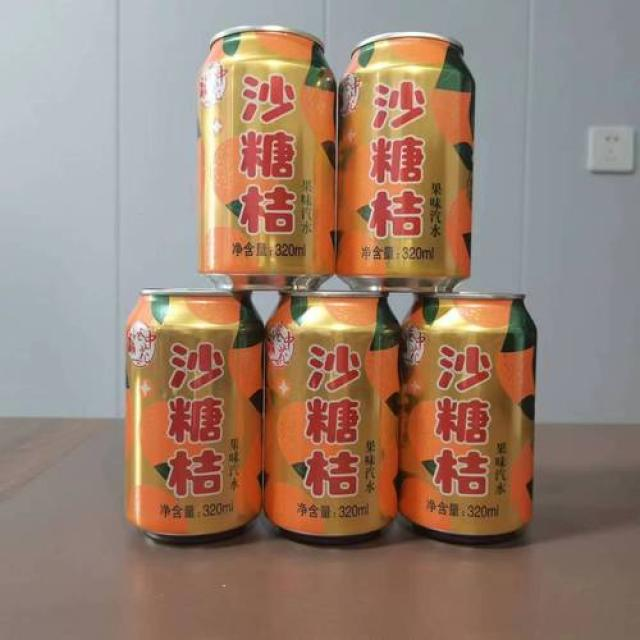can: (193, 24, 337, 289), (339, 29, 478, 296), (122, 287, 264, 548), (399, 290, 540, 548), (262, 289, 399, 547)
